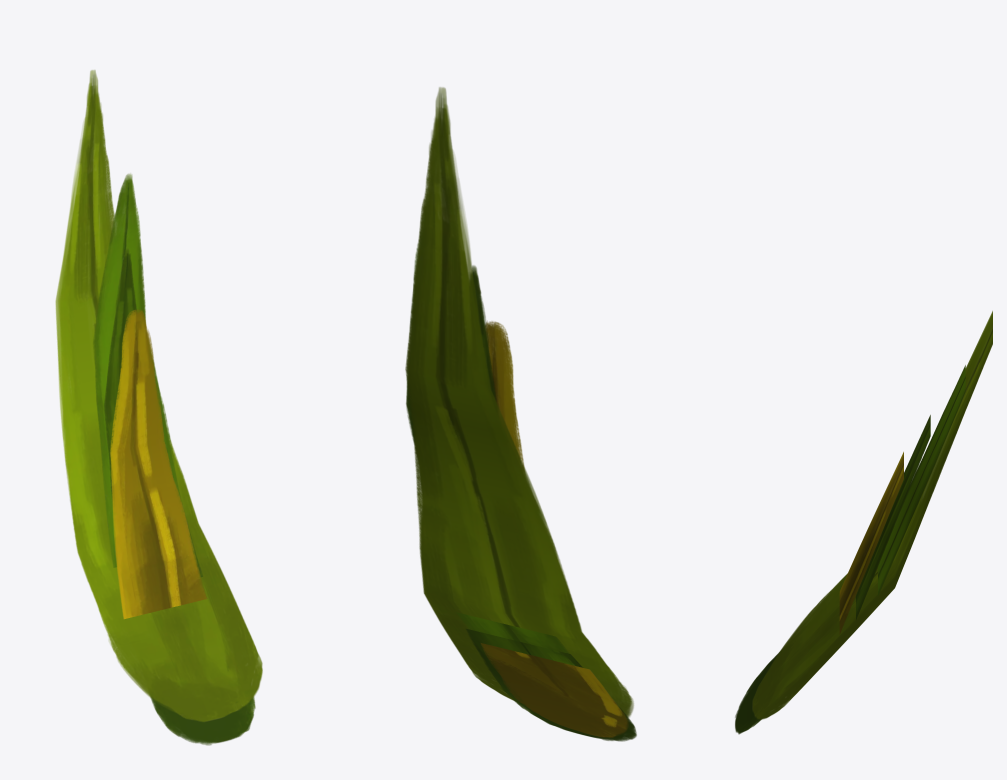
Rendered from grass.glb.
3 views of the same model, side by side, from view 1: azimuth 30°, elevation 25°; view 2: azimuth 150°, elevation 25°; view 3: azimuth 270°, elevation 25° (orthographic). The views are drawn at different scales.
Visible parts, largest first — view 1: grass_2, grass_3, grass_0, grass_1; view 2: grass_2, grass_3, grass_1, grass_0; view 3: grass_2, grass_0, grass_1, grass_3.
Part boxes in pixels (x1,y1,x2,y2): grass_2: [55, 70, 262, 722]; grass_3: [110, 309, 207, 619]; grass_0: [93, 173, 180, 567]; grass_1: [104, 248, 255, 745]; grass_2: [405, 87, 633, 717]; grass_3: [480, 321, 628, 737]; grass_1: [465, 265, 636, 741]; grass_0: [406, 213, 569, 653]; grass_2: [752, 311, 992, 719]; grass_0: [878, 365, 965, 595]; grass_1: [735, 415, 930, 734]; grass_3: [839, 452, 903, 634].
Bounding box in the file's own units: 1.11 × 4 × 1.42.
Materials: 1 (1 with a texture image).
